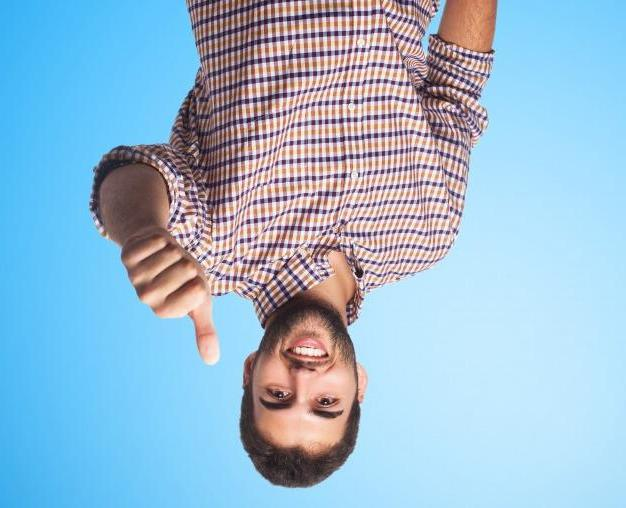thumbsdown: (120, 231, 221, 366)
